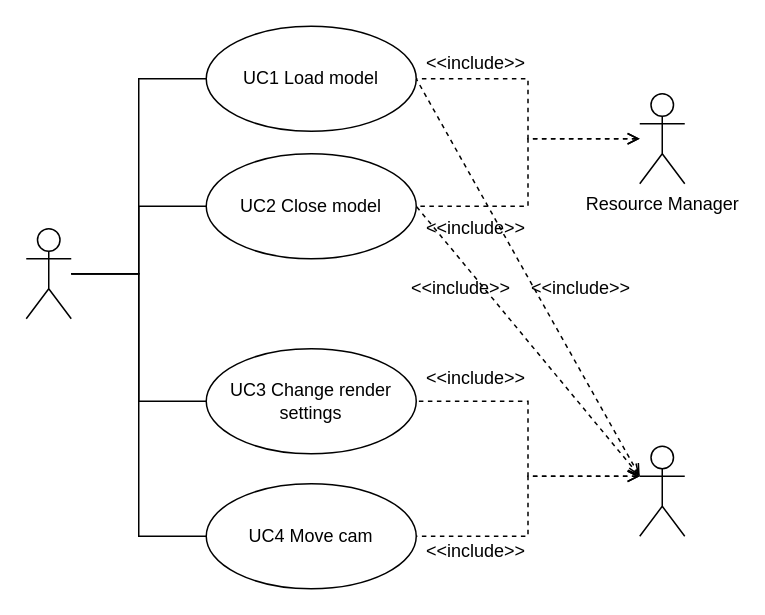
Some shapes in this 765 by 615 pixel diagram are drawn without their labels. The shapes that lost their labels are listed below. From the top down, each one's box as (x1, y1, x2, y2) in pixels, then its label:
(25, 227, 71, 319): User
(638, 445, 685, 536): Renderer
